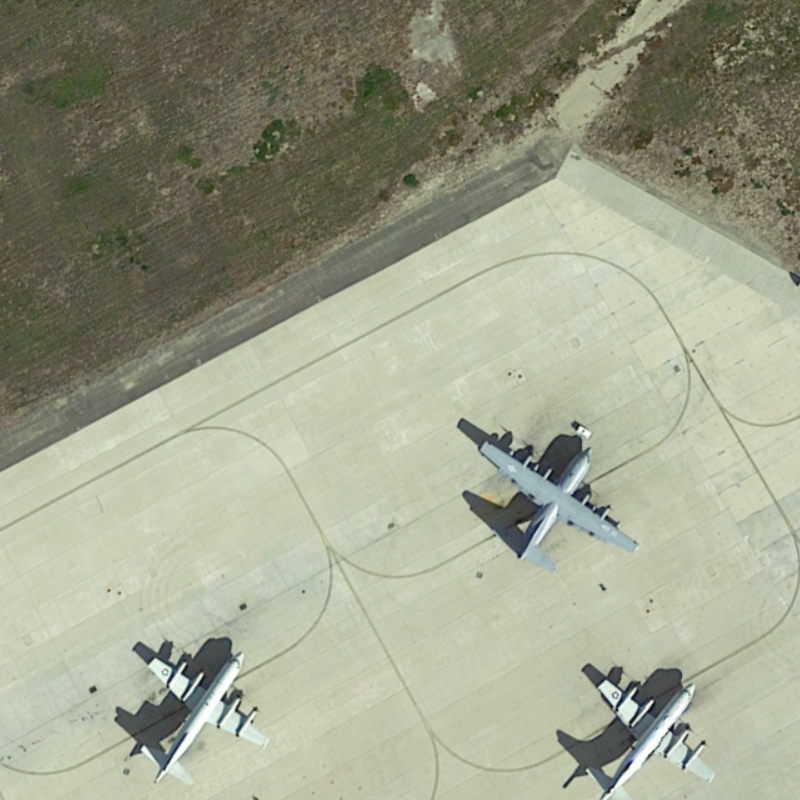A2: (467, 428, 644, 583)
A9: (132, 639, 276, 788), (579, 667, 719, 800)
